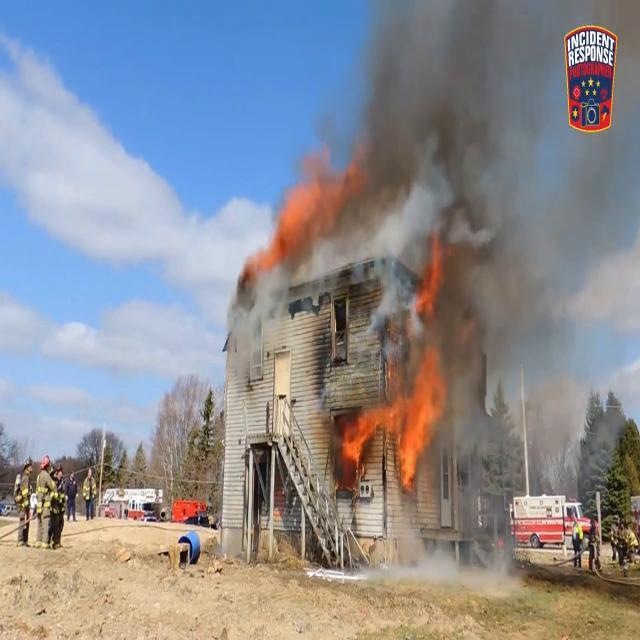Fire: (343, 348, 447, 492), (262, 142, 336, 276)
Smoke: (309, 0, 562, 359)
